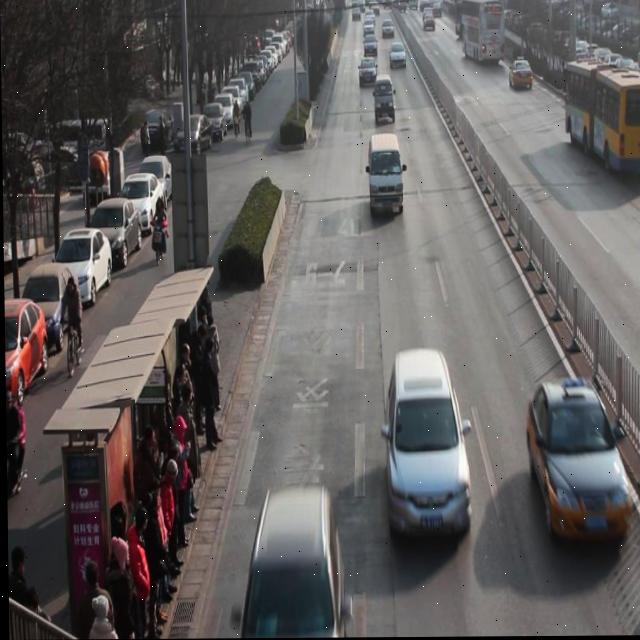car: (526, 380, 632, 551), (383, 352, 472, 543), (239, 490, 342, 639), (509, 60, 533, 92), (359, 59, 377, 89), (390, 44, 406, 72), (363, 35, 378, 59)
truck: (367, 134, 404, 218), (373, 76, 396, 128)
van: (561, 55, 640, 177), (458, 0, 501, 62)
